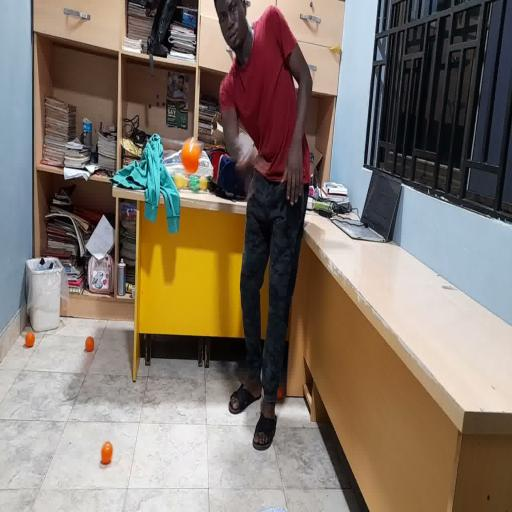plastic-ball: (180, 138, 202, 176)
